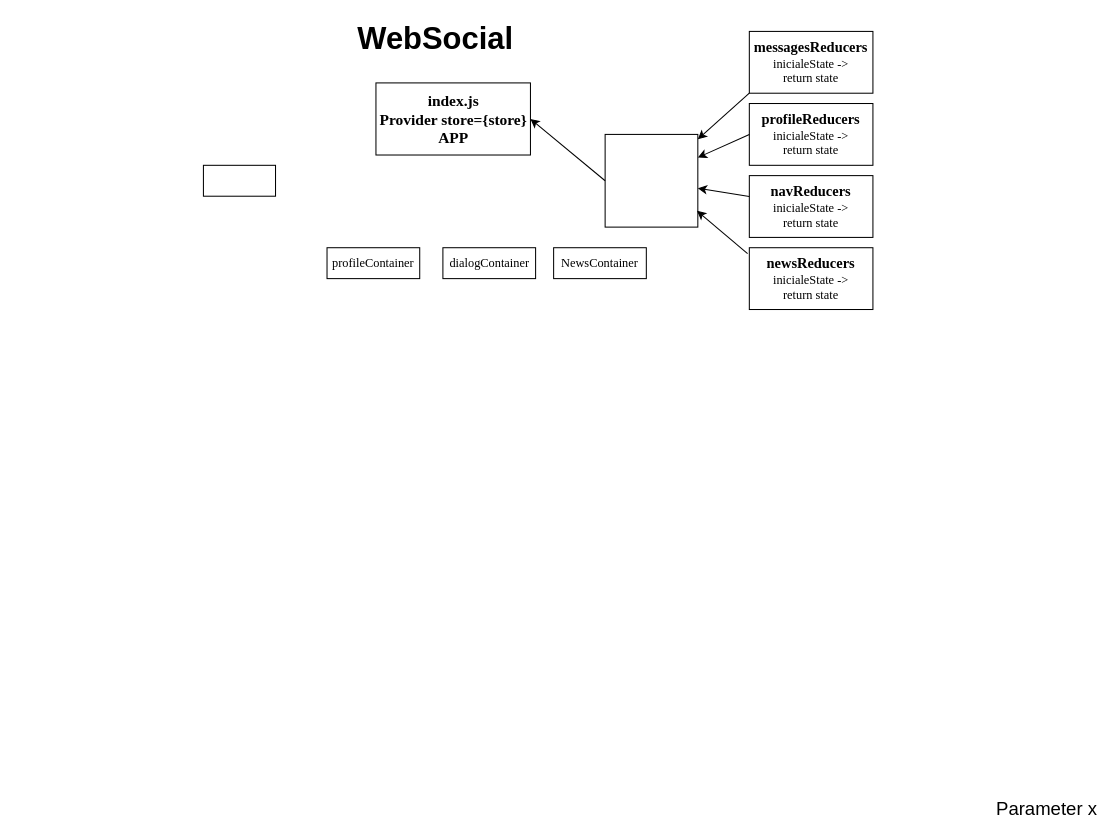
Image size: 1114x838. Some labels were removed from this diagram. Here are the shapes that lost their labels. From the top down, the box of each, then its label:
(202, 164, 276, 196): header
(604, 133, 698, 227): redux-store let reducers, store = createStore(reducers )
